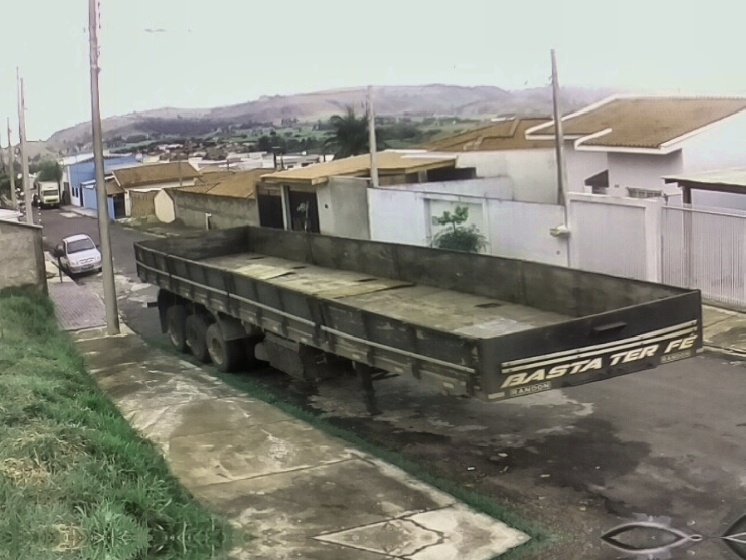person: (717, 226, 746, 323)
